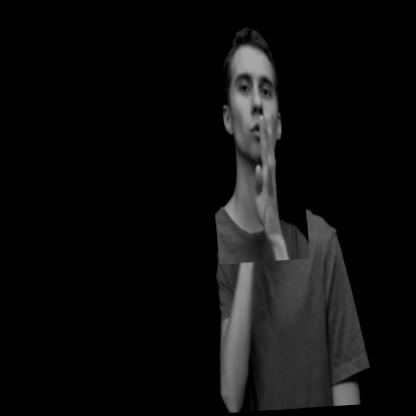Talk: (196, 7, 308, 265)
